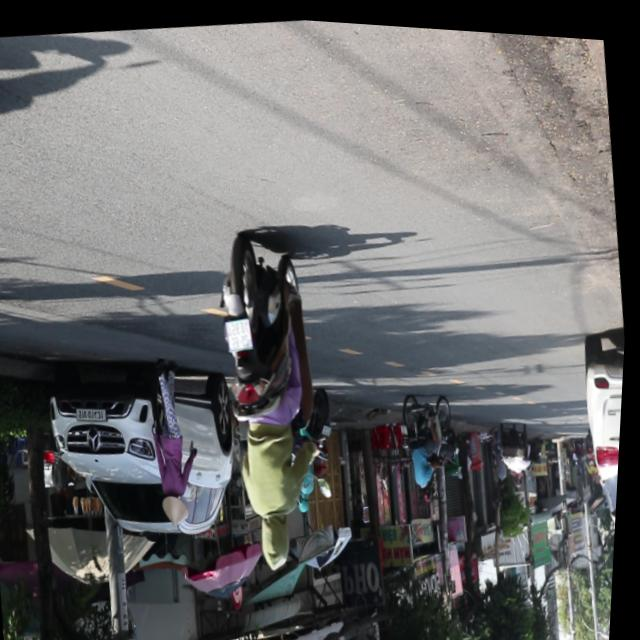helmet: (260, 507, 300, 568)
licenseplate: (202, 220, 349, 574)
nohelmet: (226, 314, 257, 350)
